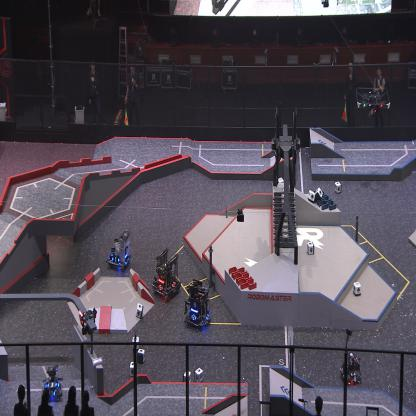car: (151, 247, 181, 301), (183, 277, 213, 329), (105, 227, 134, 272), (40, 364, 64, 403), (338, 350, 363, 387)
